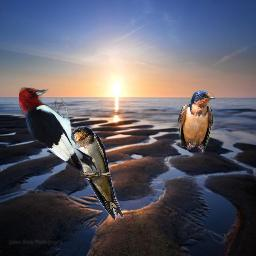Swallow: (67, 126, 124, 220), (178, 90, 215, 154)
Woodpecker: (19, 87, 100, 175)
